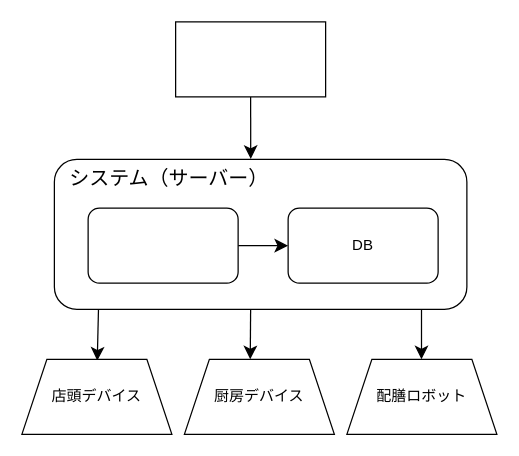
The diagram is 519 pixels wide and 456 high, and some of its shapes have lost their labels. Each missing label, with the box of its shape:
APIサーバー: (87, 207, 238, 283)
お客さんのスマホ: (174, 21, 326, 97)
